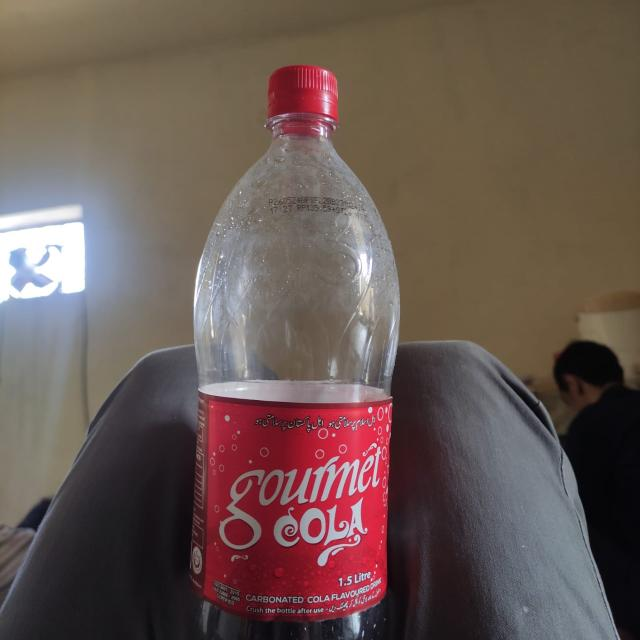bottle: (178, 48, 410, 640)
cap: (254, 50, 350, 140)
label: (175, 363, 403, 640)
